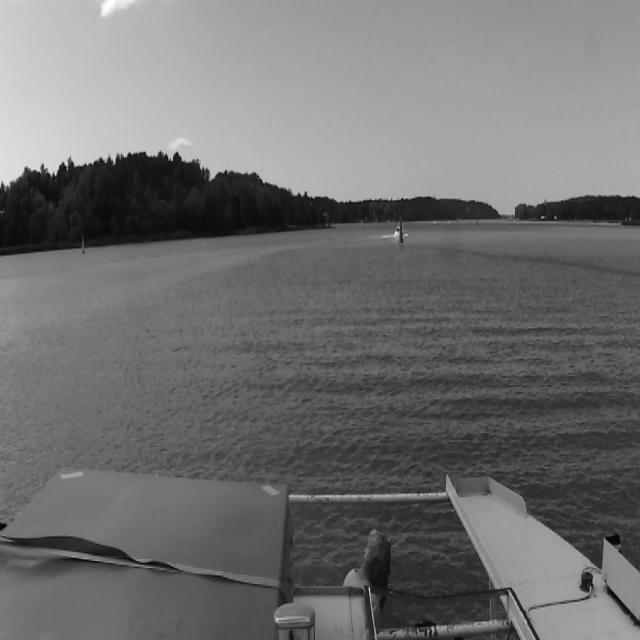buoy: (78, 230, 86, 257), (399, 218, 403, 244)
ship: (392, 220, 402, 238)
